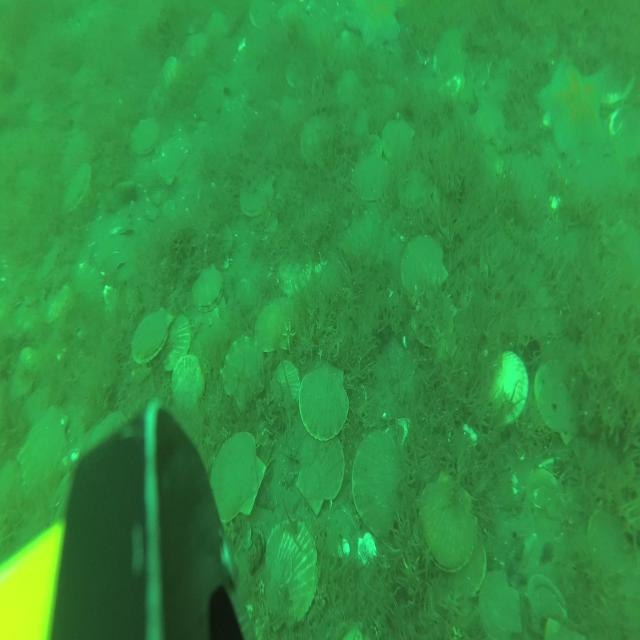scallop: (419, 466, 480, 574), (350, 425, 405, 541), (264, 520, 322, 625), (209, 430, 267, 527), (534, 353, 584, 445), (298, 356, 350, 443), (18, 407, 70, 494), (482, 340, 529, 435), (297, 430, 347, 517), (586, 500, 632, 584), (220, 334, 267, 409), (399, 232, 448, 300), (477, 565, 520, 640), (410, 292, 460, 348), (130, 306, 174, 366), (253, 295, 296, 355), (446, 540, 488, 601), (350, 148, 391, 204), (170, 352, 206, 415), (235, 171, 278, 220), (156, 133, 192, 187), (59, 159, 93, 216), (399, 162, 435, 215), (270, 357, 302, 416), (525, 462, 562, 512), (164, 309, 192, 375), (11, 345, 40, 406), (600, 65, 640, 108), (380, 116, 415, 164), (300, 114, 330, 170), (276, 253, 315, 296), (193, 264, 223, 314), (474, 99, 507, 144), (129, 114, 161, 158), (196, 72, 223, 124), (278, 93, 305, 130), (336, 70, 362, 106), (284, 56, 310, 91), (246, 0, 274, 32), (160, 54, 181, 95)
starfish: (536, 49, 611, 160), (342, 1, 404, 51)
